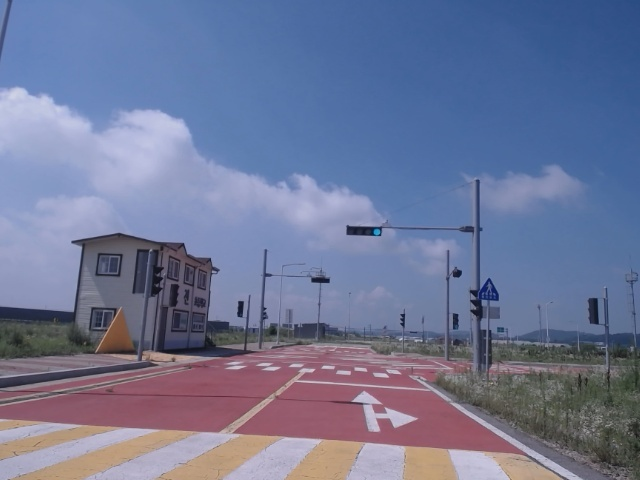straight_green_4: (347, 227, 382, 236)
